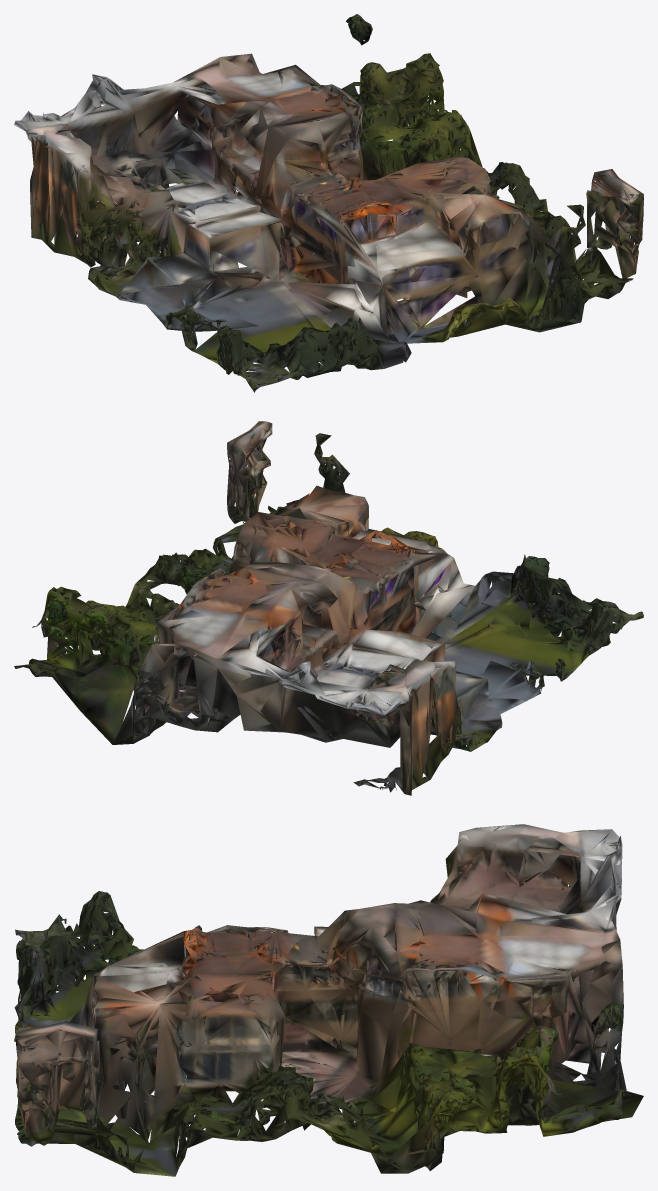
Rendered from ahlcon.glb.
3 views of the same model, one above another, from view 1: azimuth 30°, elevation 25°; view 2: azimuth 150°, elevation 25°; view 3: azimuth 270°, elevation 25° (orthographic). The views are drawn at different scales.
Size of the model in its own units: 1.81 by 0.6249 by 2.07.
1 material, 1 textured.
